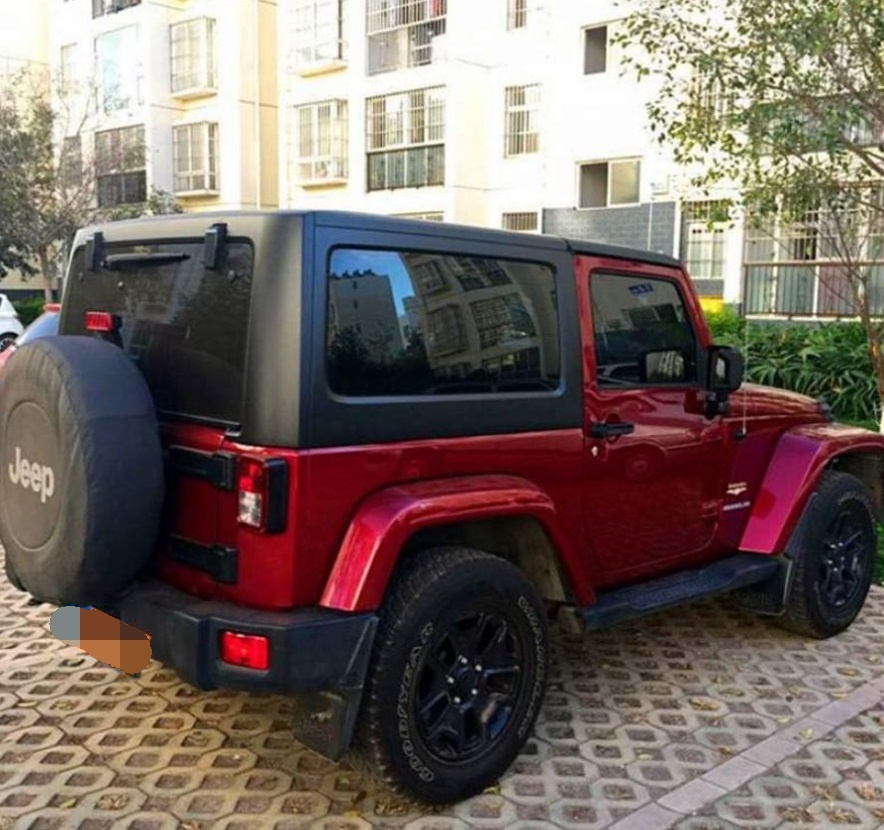jeep: (45, 181, 870, 785)
